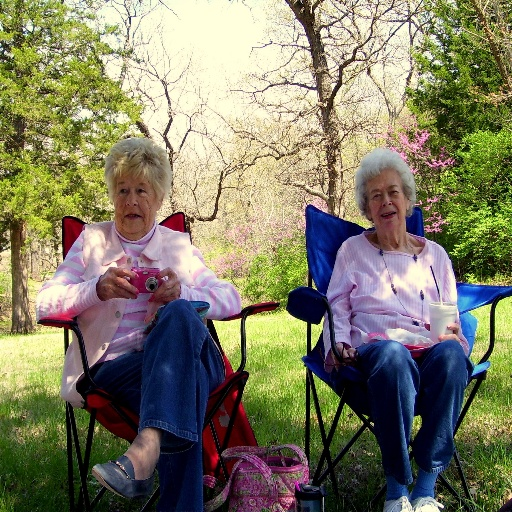hand: (114, 418, 160, 490), (96, 266, 140, 299), (148, 264, 181, 302), (329, 342, 356, 371), (423, 322, 460, 340)
